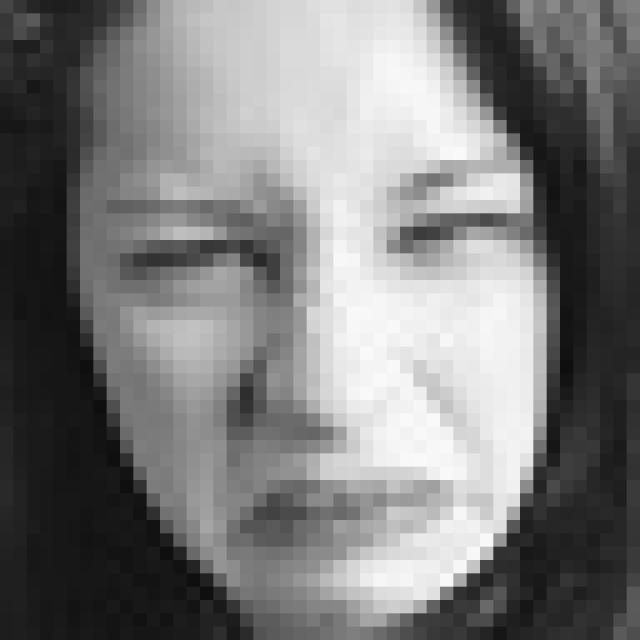disgust: (103, 154, 539, 572)
